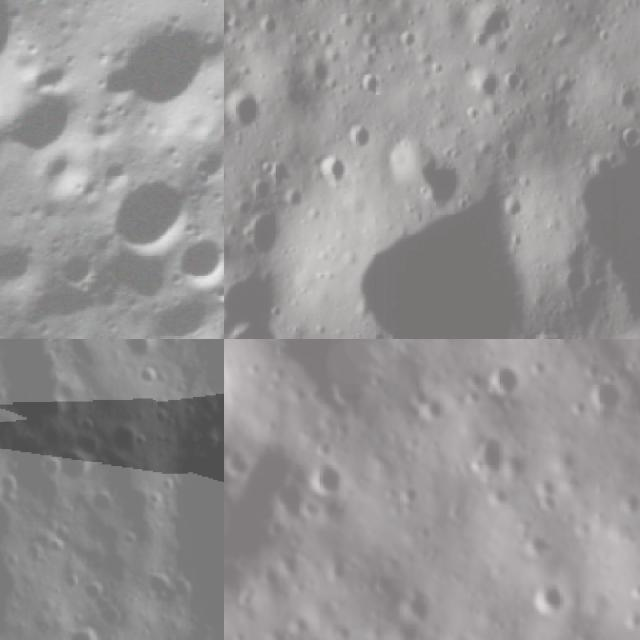crater: (123, 339, 224, 640), (81, 0, 224, 154), (224, 426, 328, 620), (0, 57, 121, 198), (224, 339, 429, 420), (83, 145, 210, 274), (0, 0, 62, 144), (0, 344, 83, 444), (374, 134, 465, 214), (598, 464, 640, 613), (164, 219, 224, 311), (25, 137, 98, 208), (42, 234, 111, 302), (0, 220, 54, 304), (37, 435, 104, 500), (231, 202, 294, 261), (520, 573, 585, 625), (301, 150, 355, 202), (578, 364, 630, 418), (478, 354, 530, 404), (470, 425, 515, 478), (224, 85, 267, 138), (307, 456, 353, 505), (393, 586, 437, 635), (49, 609, 114, 640), (224, 314, 295, 339), (224, 442, 262, 485), (76, 574, 119, 610), (339, 119, 377, 159), (355, 65, 387, 101), (211, 164, 224, 251), (496, 192, 529, 222), (618, 119, 640, 150), (224, 0, 237, 47)
